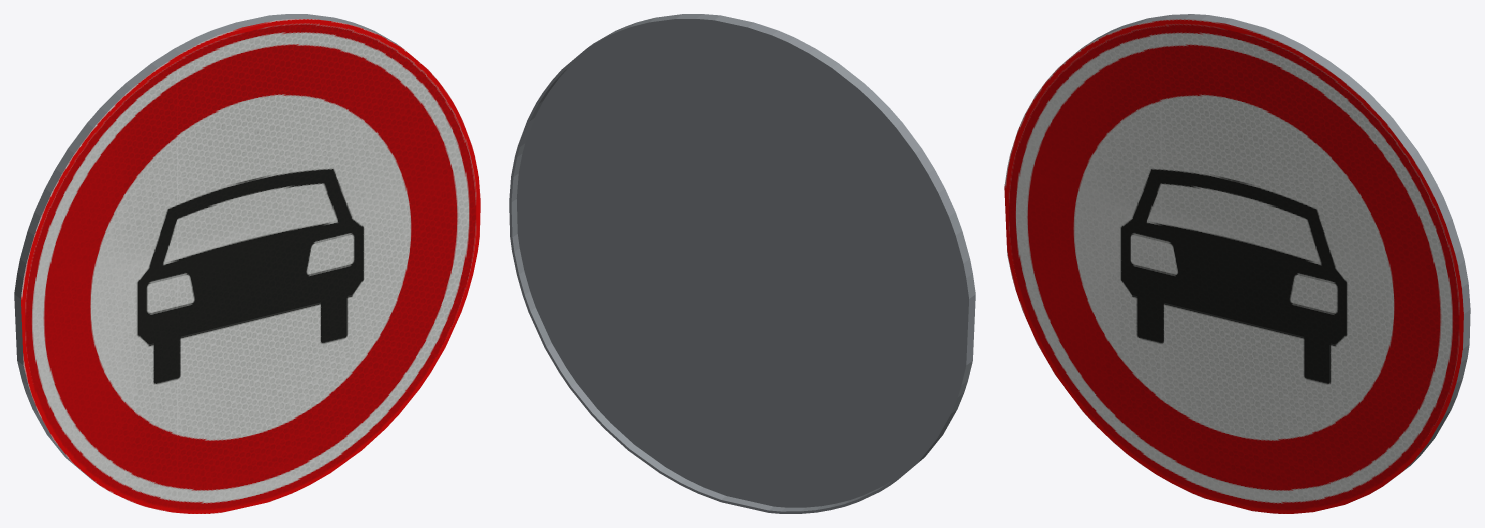
3 views of the same model, side by side, from view 1: azimuth 30°, elevation 25°; view 2: azimuth 150°, elevation 25°; view 3: azimuth 330°, elevation 25° (orthographic).
Parts seen in each view (by area): view 1: cat_d5e78845913c5712; view 2: cat_d5e78845913c5712; view 3: cat_d5e78845913c5712.
Part boxes in pixels (x1=…): cat_d5e78845913c5712: x1=14, y1=14, x2=480, y2=513; cat_d5e78845913c5712: x1=509, y1=14, x2=975, y2=513; cat_d5e78845913c5712: x1=1004, y1=14, x2=1470, y2=513.
Bounding box in the file's own units: 0.6 × 0.015 × 0.6.
Materials: 2 (1 with a texture image).
